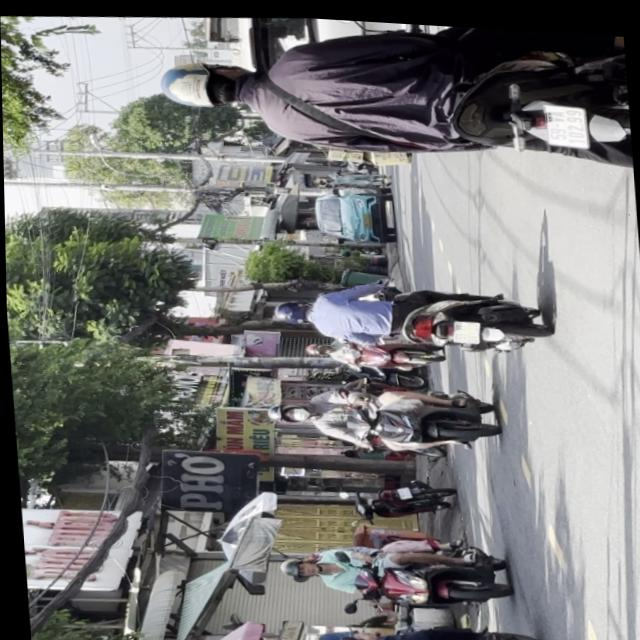helmet: (158, 55, 253, 112), (263, 398, 310, 424), (269, 296, 310, 324), (275, 554, 318, 579), (272, 638, 320, 640)
licenseplate: (151, 7, 633, 189), (265, 265, 549, 364), (272, 521, 510, 616), (259, 371, 500, 460), (268, 606, 542, 640)
nohelmet: (543, 98, 588, 143), (449, 315, 479, 339)
